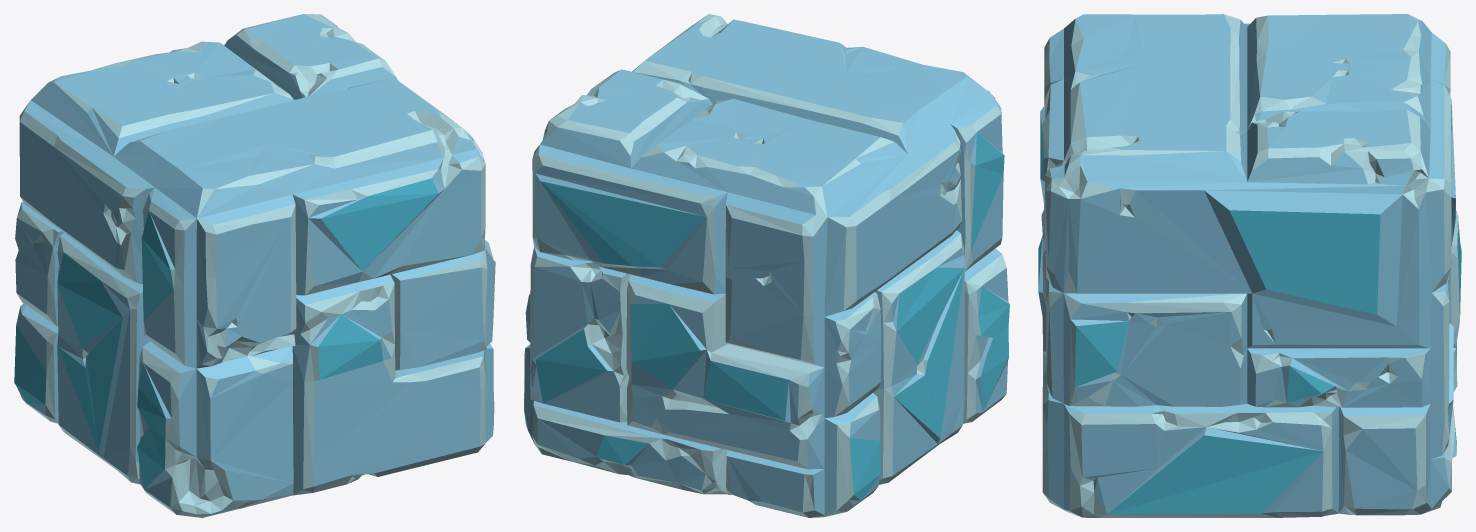
File: cube_dmg.fbx
The picture shows the model from 3 angles, left to right: view 1: azimuth 30°, elevation 25°; view 2: azimuth 150°, elevation 25°; view 3: azimuth 270°, elevation 25°; orthographic projection. The views are drawn at different scales.
Parts seen in each view (by area): view 1: Cube_dmg; view 2: Cube_dmg; view 3: Cube_dmg.
Boxes of the visible parts, bbox=[...] form: Cube_dmg: bbox=[14, 14, 495, 517]; Cube_dmg: bbox=[524, 14, 1009, 517]; Cube_dmg: bbox=[1038, 14, 1461, 517].
Size of the model in its own units: 231 by 217 by 231.
